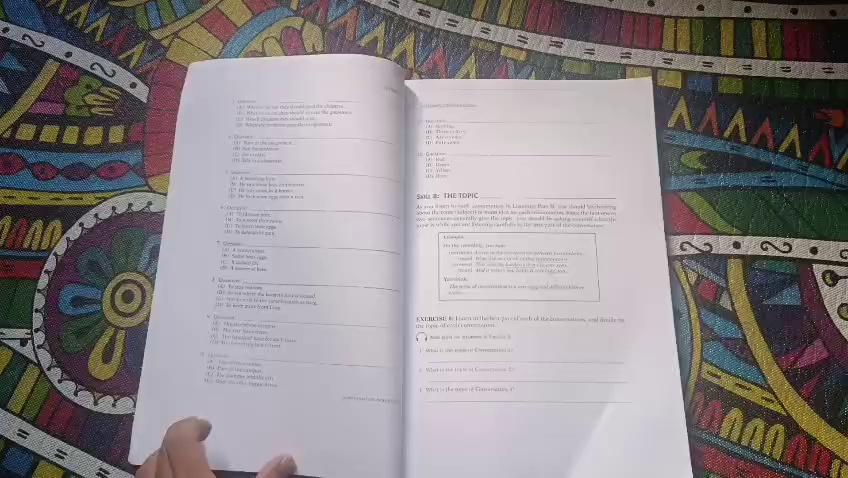Kertas: (394, 82, 651, 478), (213, 82, 470, 453)
